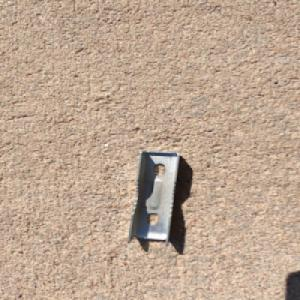ClampPart: (124, 148, 182, 246)
